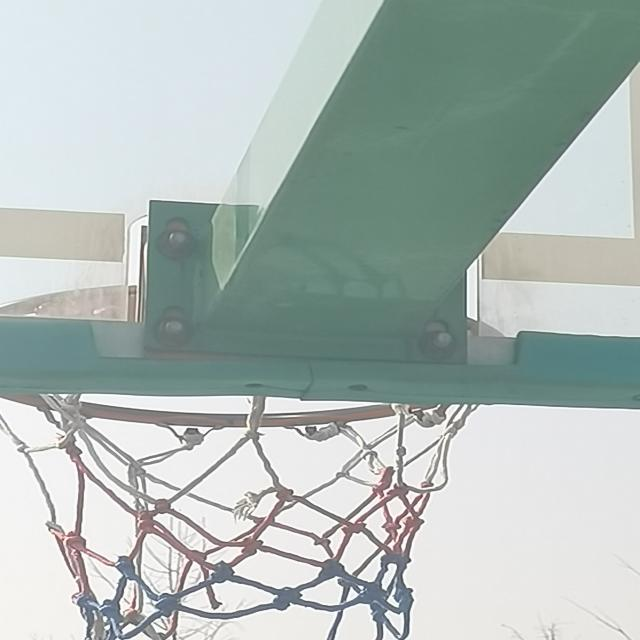blur bolt: (420, 330, 462, 360), (153, 315, 194, 345), (158, 228, 198, 255)
